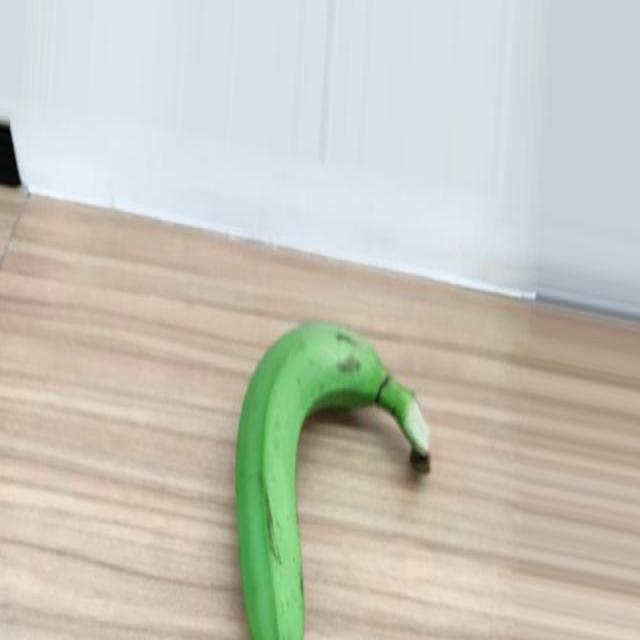Unripe: (236, 319, 433, 640)
